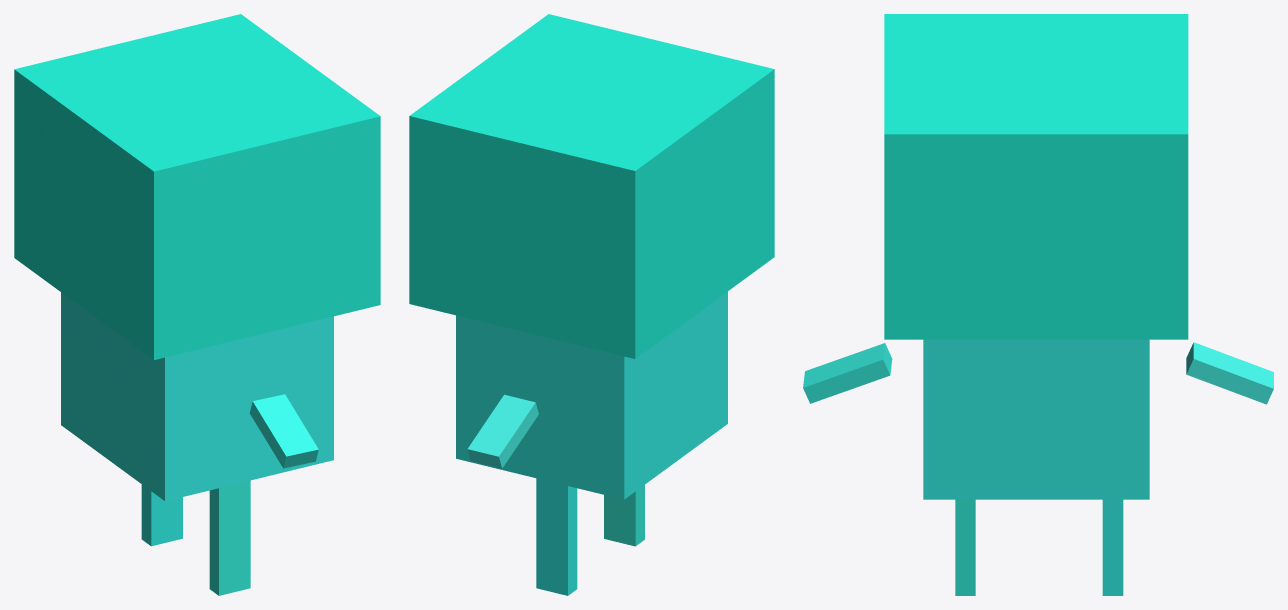
File: sample player.gltf
The picture shows the model from 3 angles, left to right: view 1: azimuth 30°, elevation 25°; view 2: azimuth 150°, elevation 25°; view 3: azimuth 270°, elevation 25°; orthographic projection. The views are drawn at different scales.
Parts seen in each view (by area): view 1: Cube.003, Cube, Cube.001, Cube.005, Cube.002; view 2: Cube.003, Cube, Cube.002, Cube.004, Cube.001; view 3: Cube.003, Cube, Cube.004, Cube.005, Cube.002, Cube.001.
Boxes of the visible parts, x1=… form: Cube.003: x1=14, y1=14, x2=380, y2=360; Cube: x1=61, y1=292, x2=333, y2=501; Cube.001: x1=209, y1=480, x2=250, y2=595; Cube.005: x1=249, y1=394, x2=318, y2=468; Cube.002: x1=141, y1=484, x2=182, y2=546; Cube.003: x1=409, y1=14, x2=774, y2=358; Cube: x1=456, y1=291, x2=727, y2=499; Cube.002: x1=536, y1=478, x2=577, y2=595; Cube.004: x1=467, y1=394, x2=538, y2=468; Cube.001: x1=604, y1=485, x2=644, y2=546; Cube.003: x1=884, y1=14, x2=1188, y2=339; Cube: x1=923, y1=339, x2=1149, y2=499; Cube.004: x1=1186, y1=342, x2=1273, y2=404; Cube.005: x1=803, y1=343, x2=892, y2=403; Cube.002: x1=1102, y1=499, x2=1123, y2=595; Cube.001: x1=955, y1=499, x2=975, y2=595.
Size of the model in its own units: 1.3 by 2.59 by 2.15.
